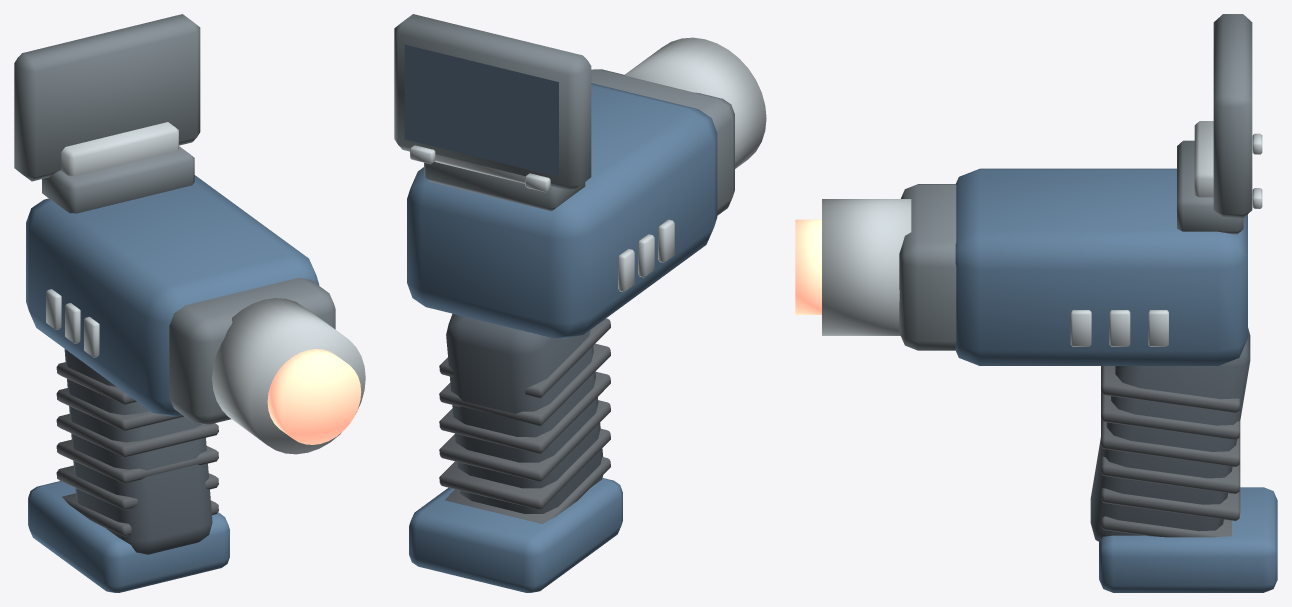
The model's file is demolisher_enhanced.glb.
The picture shows the model from 3 angles, left to right: view 1: azimuth 30°, elevation 25°; view 2: azimuth 150°, elevation 25°; view 3: azimuth 270°, elevation 25°; orthographic projection. The views are drawn at different scales.
Parts seen in each view (by area): view 1: ToolBody_navy, LiveViewSurfaceFrame_frame, Grip_black, Ram_steel, Battery_navy, GripRib_rubber, NoseHousing_frame, RamTip_red, DisplayMount_frame, DisplayBracket_steel, HousingVent_steel; view 2: ToolBody_navy, Grip_black, LiveViewSurface_glass, Battery_navy, GripRib_rubber, LiveViewSurfaceFrame_frame, Ram_steel, NoseHousing_frame, DisplayMount_frame, HousingVent_steel, DisplayControls_steel, DisplayBracket_steel; view 3: ToolBody_navy, Grip_black, Battery_navy, GripRib_rubber, Ram_steel, NoseHousing_frame, LiveViewSurfaceFrame_frame, DisplayMount_frame, RamTip_red, HousingVent_steel, DisplayBracket_steel.
Boxes of the visible parts, bbox=[...] form: ToolBody_navy: bbox=[26, 175, 319, 416]; LiveViewSurfaceFrame_frame: bbox=[14, 14, 200, 181]; Grip_black: bbox=[64, 349, 212, 554]; Ram_steel: bbox=[212, 298, 365, 454]; Battery_navy: bbox=[28, 481, 229, 592]; GripRib_rubber: bbox=[56, 362, 218, 536]; NoseHousing_frame: bbox=[169, 277, 335, 424]; RamTip_red: bbox=[267, 349, 361, 444]; DisplayMount_frame: bbox=[42, 146, 194, 213]; DisplayBracket_steel: bbox=[61, 122, 178, 176]; HousingVent_steel: bbox=[46, 289, 99, 357]; ToolBody_navy: bbox=[407, 83, 717, 338]; Grip_black: bbox=[446, 313, 603, 513]; LiveViewSurface_glass: bbox=[404, 44, 558, 176]; Battery_navy: bbox=[409, 478, 622, 592]; GripRib_rubber: bbox=[439, 318, 610, 523]; LiveViewSurfaceFrame_frame: bbox=[394, 14, 591, 191]; Ram_steel: bbox=[625, 37, 766, 168]; NoseHousing_frame: bbox=[591, 69, 734, 215]; DisplayMount_frame: bbox=[424, 162, 585, 211]; HousingVent_steel: bbox=[618, 219, 674, 292]; DisplayControls_steel: bbox=[410, 145, 550, 192]; DisplayBracket_steel: bbox=[434, 154, 524, 183]; ToolBody_navy: bbox=[955, 168, 1247, 365]; Grip_black: bbox=[1090, 328, 1250, 541]; Battery_navy: bbox=[1099, 487, 1277, 592]; GripRib_rubber: bbox=[1101, 366, 1240, 537]; Ram_steel: bbox=[822, 199, 911, 335]; NoseHousing_frame: bbox=[899, 184, 956, 350]; LiveViewSurfaceFrame_frame: bbox=[1213, 14, 1252, 218]; DisplayMount_frame: bbox=[1177, 140, 1243, 234]; RamTip_red: bbox=[795, 219, 821, 314]; HousingVent_steel: bbox=[1070, 310, 1168, 346]; DisplayBracket_steel: bbox=[1194, 121, 1213, 197].
Size of the model in its own units: 0.371 by 0.95 by 0.81.
